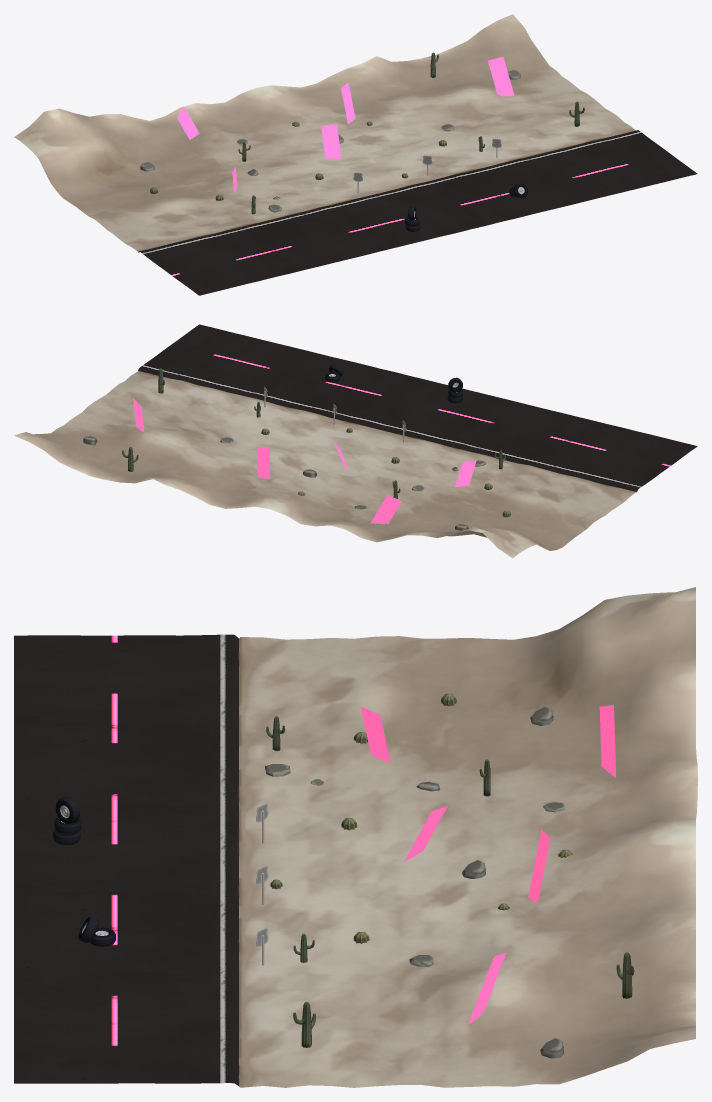
The model's file is SelectStage_Stage02_Desert.fbx.
The picture shows the model from 3 angles, top to bottom: view 1: azimuth 30°, elevation 25°; view 2: azimuth 150°, elevation 25°; view 3: azimuth 270°, elevation 25°; orthographic projection. The views are drawn at different scales.
Visible parts, largest first — view 1: Desert, Monument_01, Monument_03; view 2: Desert, Monument_04, Monument_02; view 3: Desert, Monument_04, Monument_05, Monument_02, Monument_01, SignBoard.
Part boxes in pixels (left/top/right/bottom): Desert: left=14, top=14, right=697, bottom=295; Monument_01: left=488, top=56, right=514, bottom=96; Monument_03: left=321, top=124, right=341, bottom=159; Desert: left=14, top=324, right=697, bottom=558; Monument_04: left=371, top=495, right=401, bottom=523; Monument_02: left=257, top=446, right=269, bottom=479; Desert: left=14, top=587, right=697, bottom=1087; Monument_04: left=599, top=705, right=615, bottom=777; Monument_05: left=360, top=707, right=390, bottom=762; Monument_02: left=528, top=829, right=550, bottom=903; Monument_01: left=468, top=952, right=506, bottom=1024; SignBoard: left=256, top=803, right=268, bottom=965.
Bounding box in the file's own units: 555 × 63.67 × 358.
